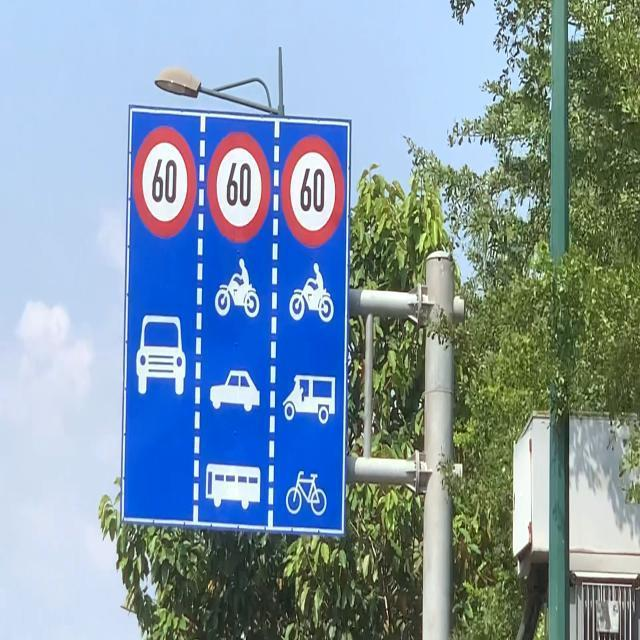127-toc-do-toi-da-60: (206, 130, 272, 239), (280, 138, 344, 246), (137, 123, 196, 235)
